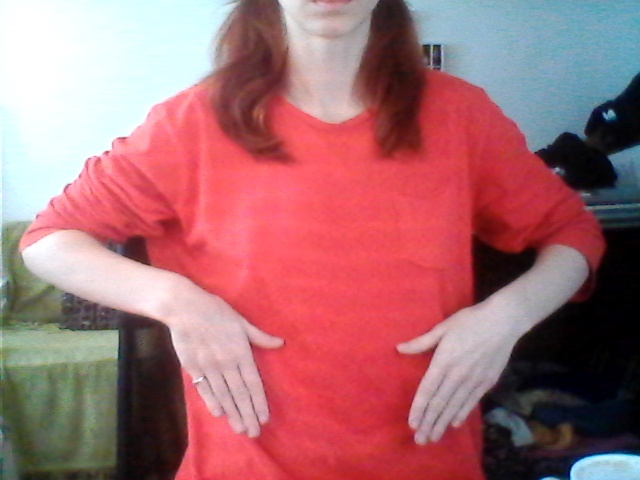zena: (144, 256, 505, 444)
